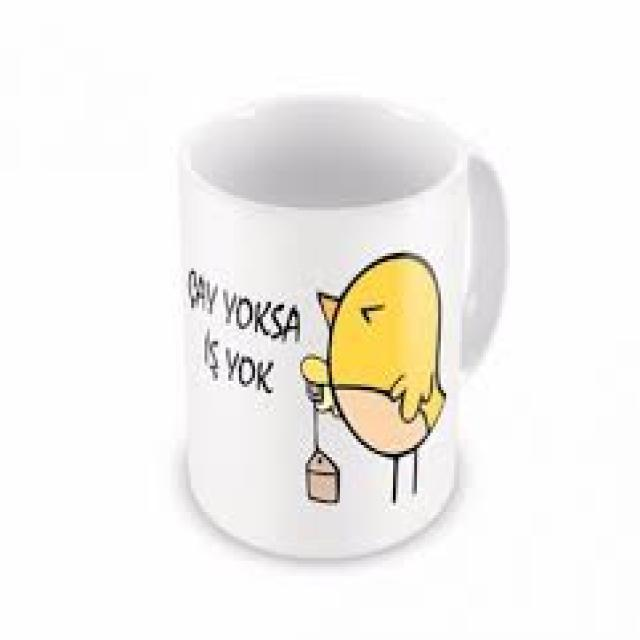taza: (178, 89, 509, 558)
